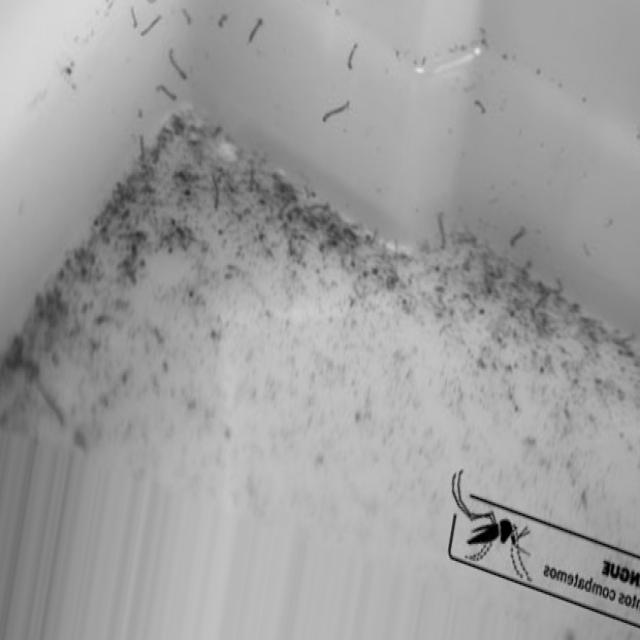larvas: (168, 31, 199, 93), (314, 90, 360, 128), (429, 200, 458, 259), (238, 9, 266, 60), (147, 76, 184, 114), (135, 5, 172, 42), (498, 220, 533, 253), (343, 31, 367, 69), (123, 5, 148, 41), (209, 168, 227, 216), (180, 7, 196, 38), (212, 10, 231, 33)
